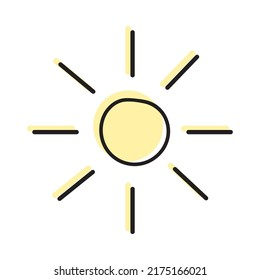sun: (25, 27, 233, 236)
